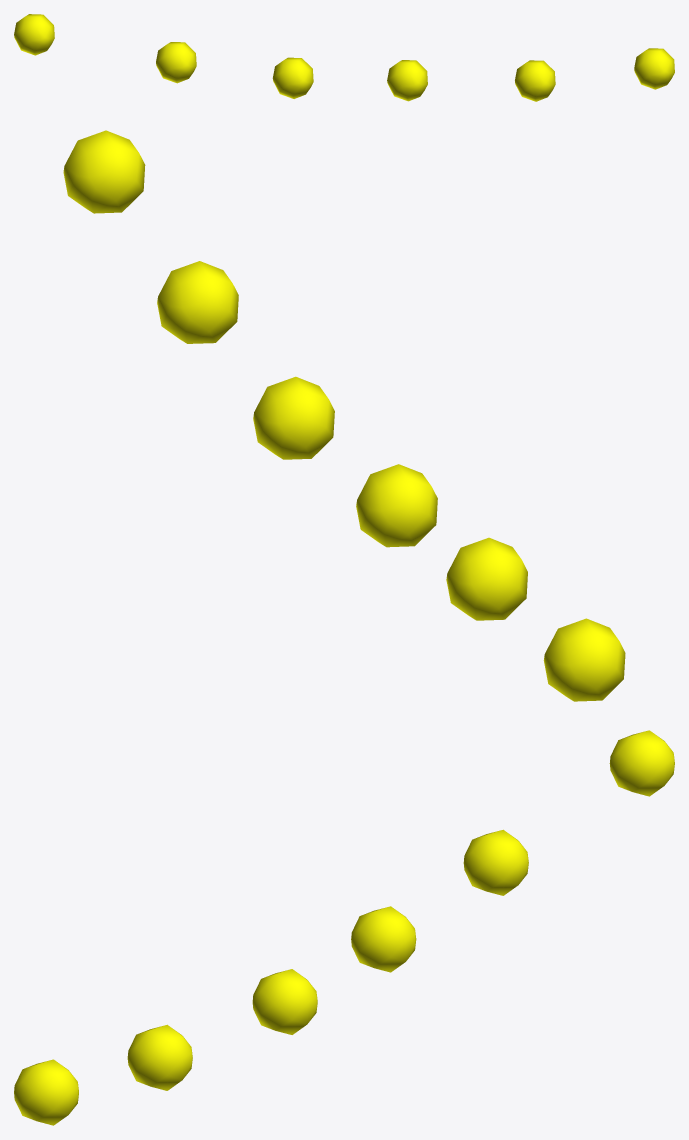
Rendered from Lights decimated compressed.glb.
The picture shows the model from 3 angles, top to bottom: view 1: azimuth 30°, elevation 25°; view 2: azimuth 150°, elevation 25°; view 3: azimuth 270°, elevation 25°; orthographic projection. The views are drawn at different scales.
Parts seen in each view (by area): view 1: Lights; view 2: Lights; view 3: Lights.
Part boxes in pixels (x1,y1,x2,y2): Lights: (14, 14, 674, 101); Lights: (63, 130, 625, 701); Lights: (14, 730, 674, 1125).
Size of the model in its own units: 1.83 by 0.2375 by 1.43.
